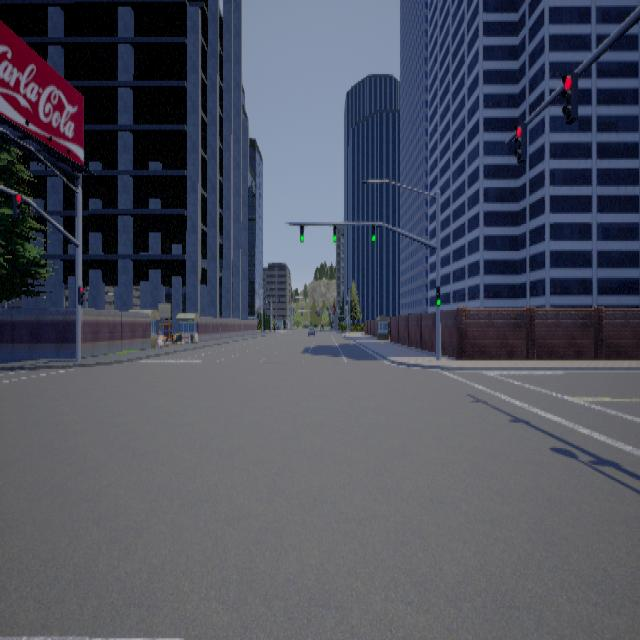green_light: (436, 286, 440, 306), (332, 222, 336, 241), (299, 222, 303, 241), (371, 222, 374, 241)
red_light: (561, 71, 577, 123), (513, 121, 526, 162), (12, 192, 21, 217), (77, 285, 84, 303)
